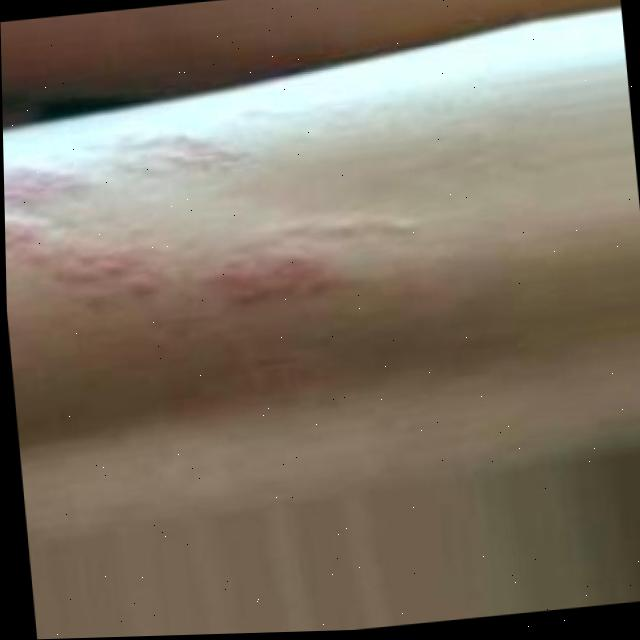Shingles: (3, 129, 347, 341)
